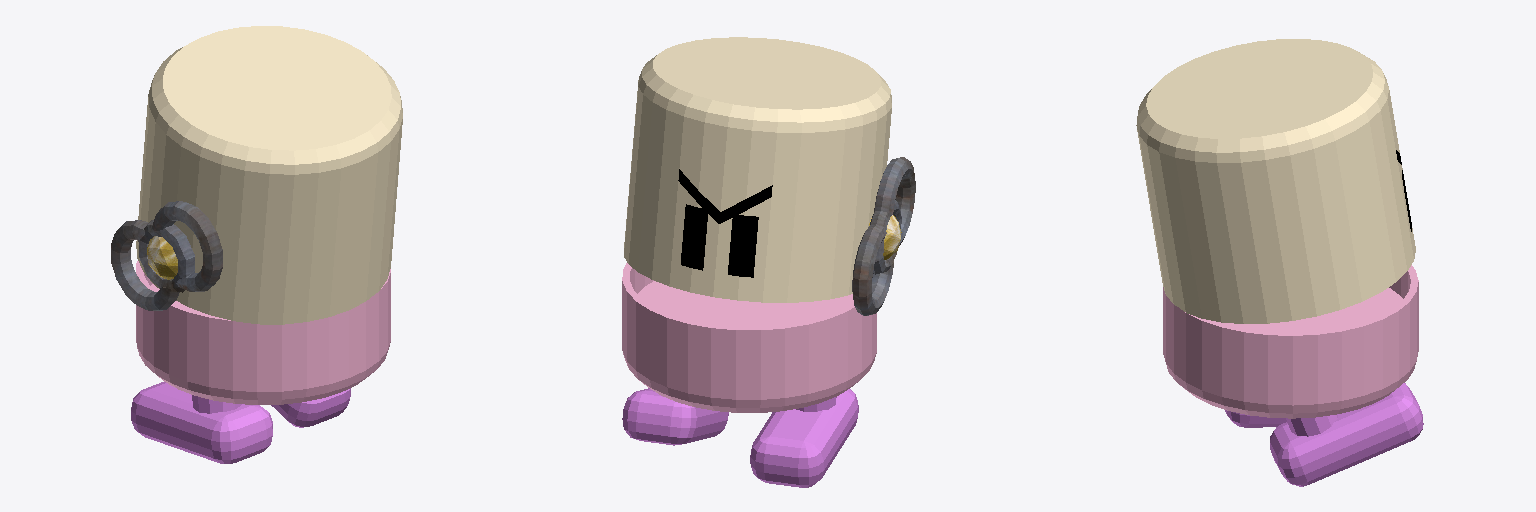
The picture shows the model from 3 angles: view 1: azimuth 30°, elevation 25°; view 2: azimuth 150°, elevation 25°; view 3: azimuth 270°, elevation 25°; orthographic projection.
Parts seen in each view (by area): view 1: Head, Jaw, WindupKey, LeftLeg, RightLeg; view 2: Head, Jaw, LeftLeg, WindupKey, RightLeg; view 3: Head, Jaw, RightLeg, LeftLeg.
Boxes of the visible parts, x1,y1,x2,y2 form: Head: [136, 26, 402, 324]; Jaw: [136, 261, 390, 404]; WindupKey: [111, 201, 222, 310]; LeftLeg: [131, 382, 272, 463]; RightLeg: [271, 388, 350, 427]; Head: [624, 37, 891, 302]; Jaw: [622, 263, 876, 412]; LeftLeg: [750, 389, 858, 487]; WindupKey: [852, 157, 915, 315]; RightLeg: [622, 388, 728, 445]; Head: [1136, 39, 1415, 323]; Jaw: [1163, 265, 1418, 418]; RightLeg: [1270, 383, 1423, 486]; LeftLeg: [1225, 410, 1286, 427].
Size of the model in its own units: 111 by 162 by 112.
6 materials, 2 textured.